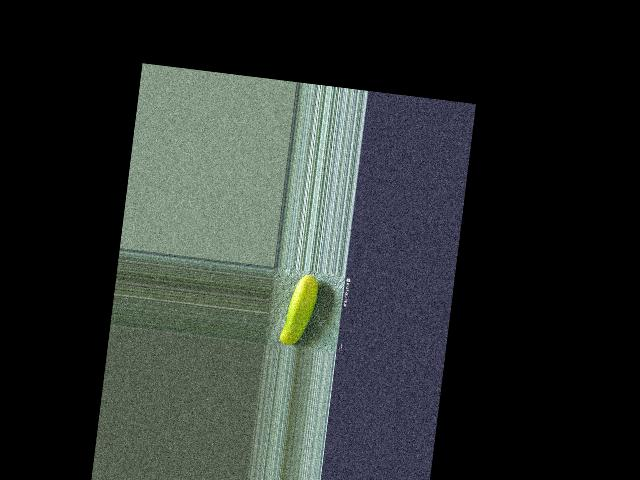cucumber: (279, 272, 320, 348)
